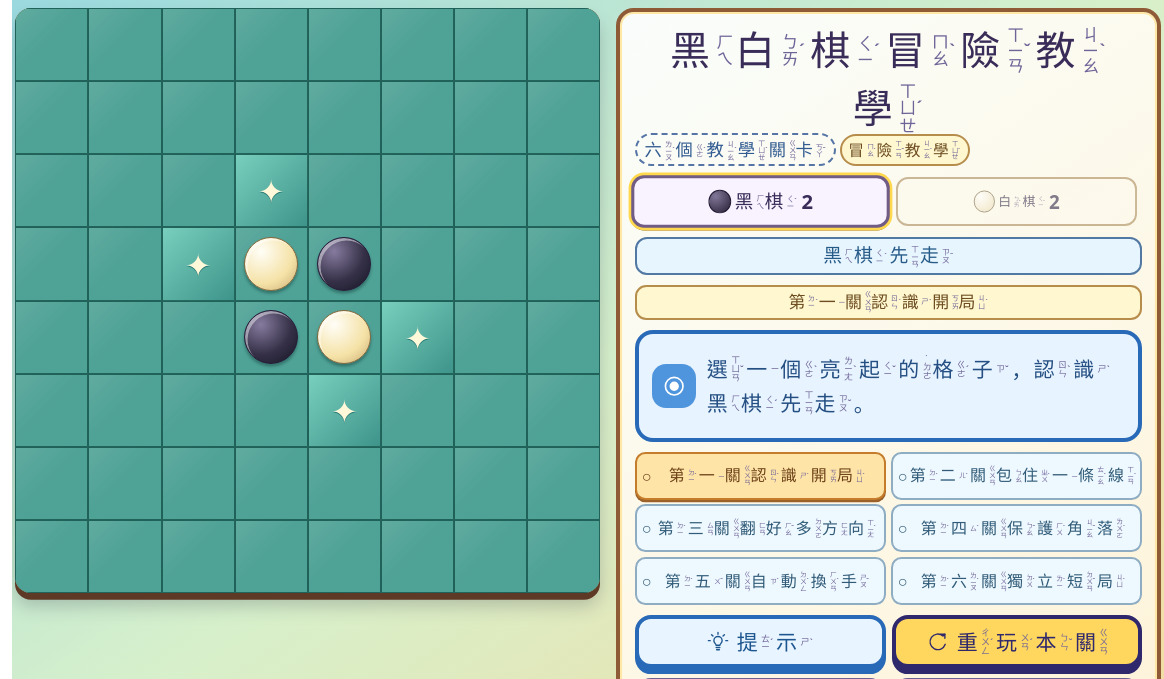
黑白棋冒險互動教學畫面 › 第五關開場直接呈現規則造成的自動略過狀態
Click the button named "第五關自動換手". click: (761, 581)
box: [635, 557, 886, 605]
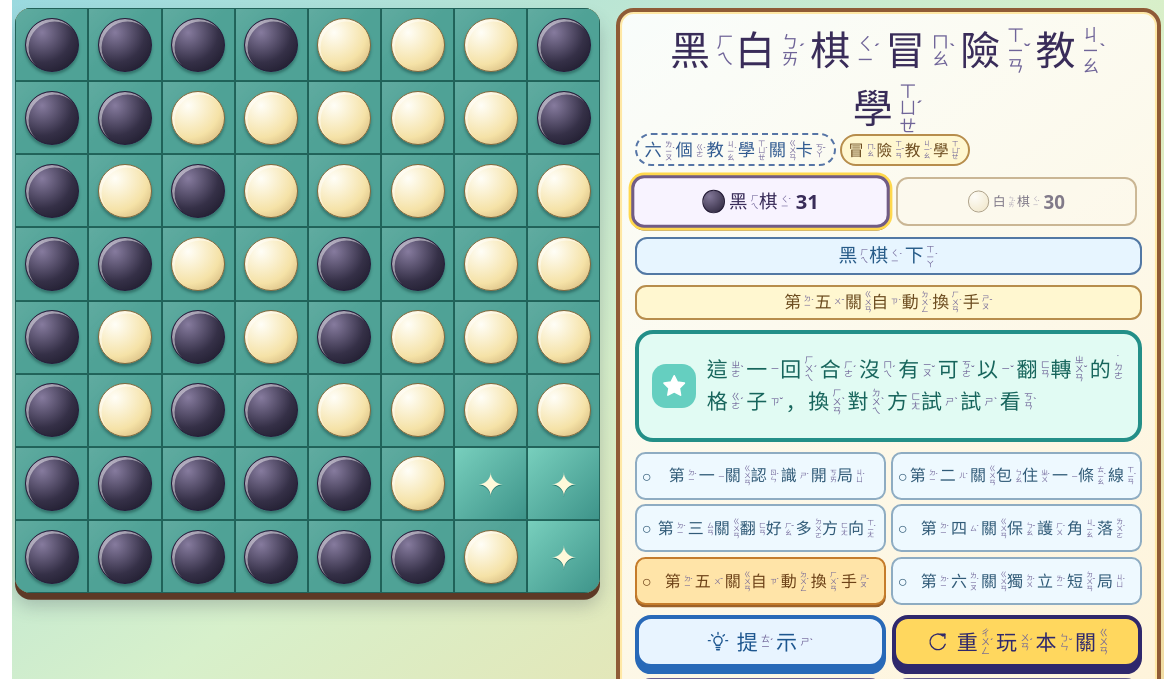
Expected: the number of cells named "可以落子的格子" is 3, [454, 447, 527, 520]; [527, 447, 600, 520]; [527, 520, 600, 593]
Expected: the element named "這一回合沒有可以翻轉的格子，換對方試試看" is shown, [707, 355, 1126, 416]
